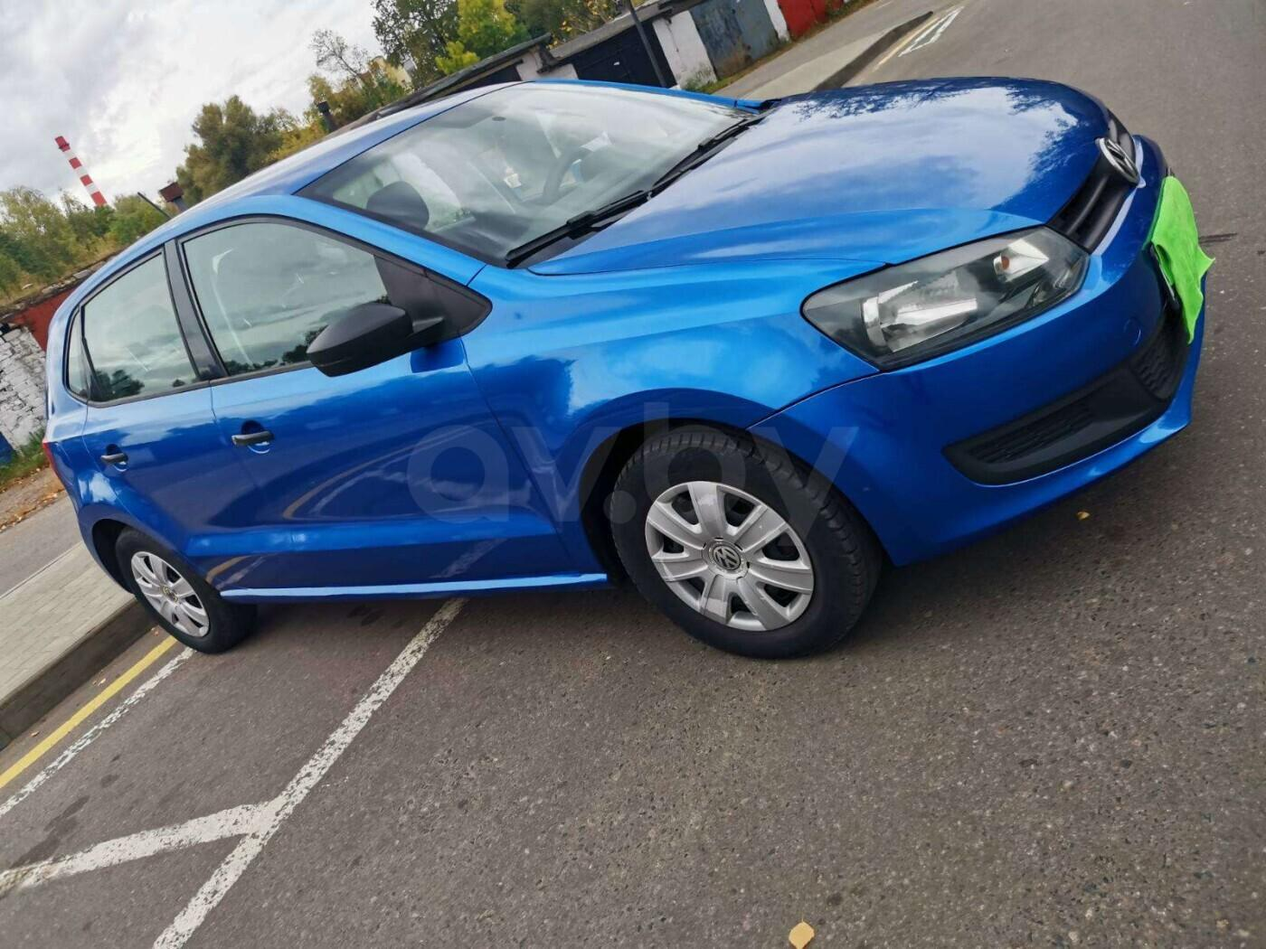Polo_2009-2015: (10, 37, 1265, 671)
